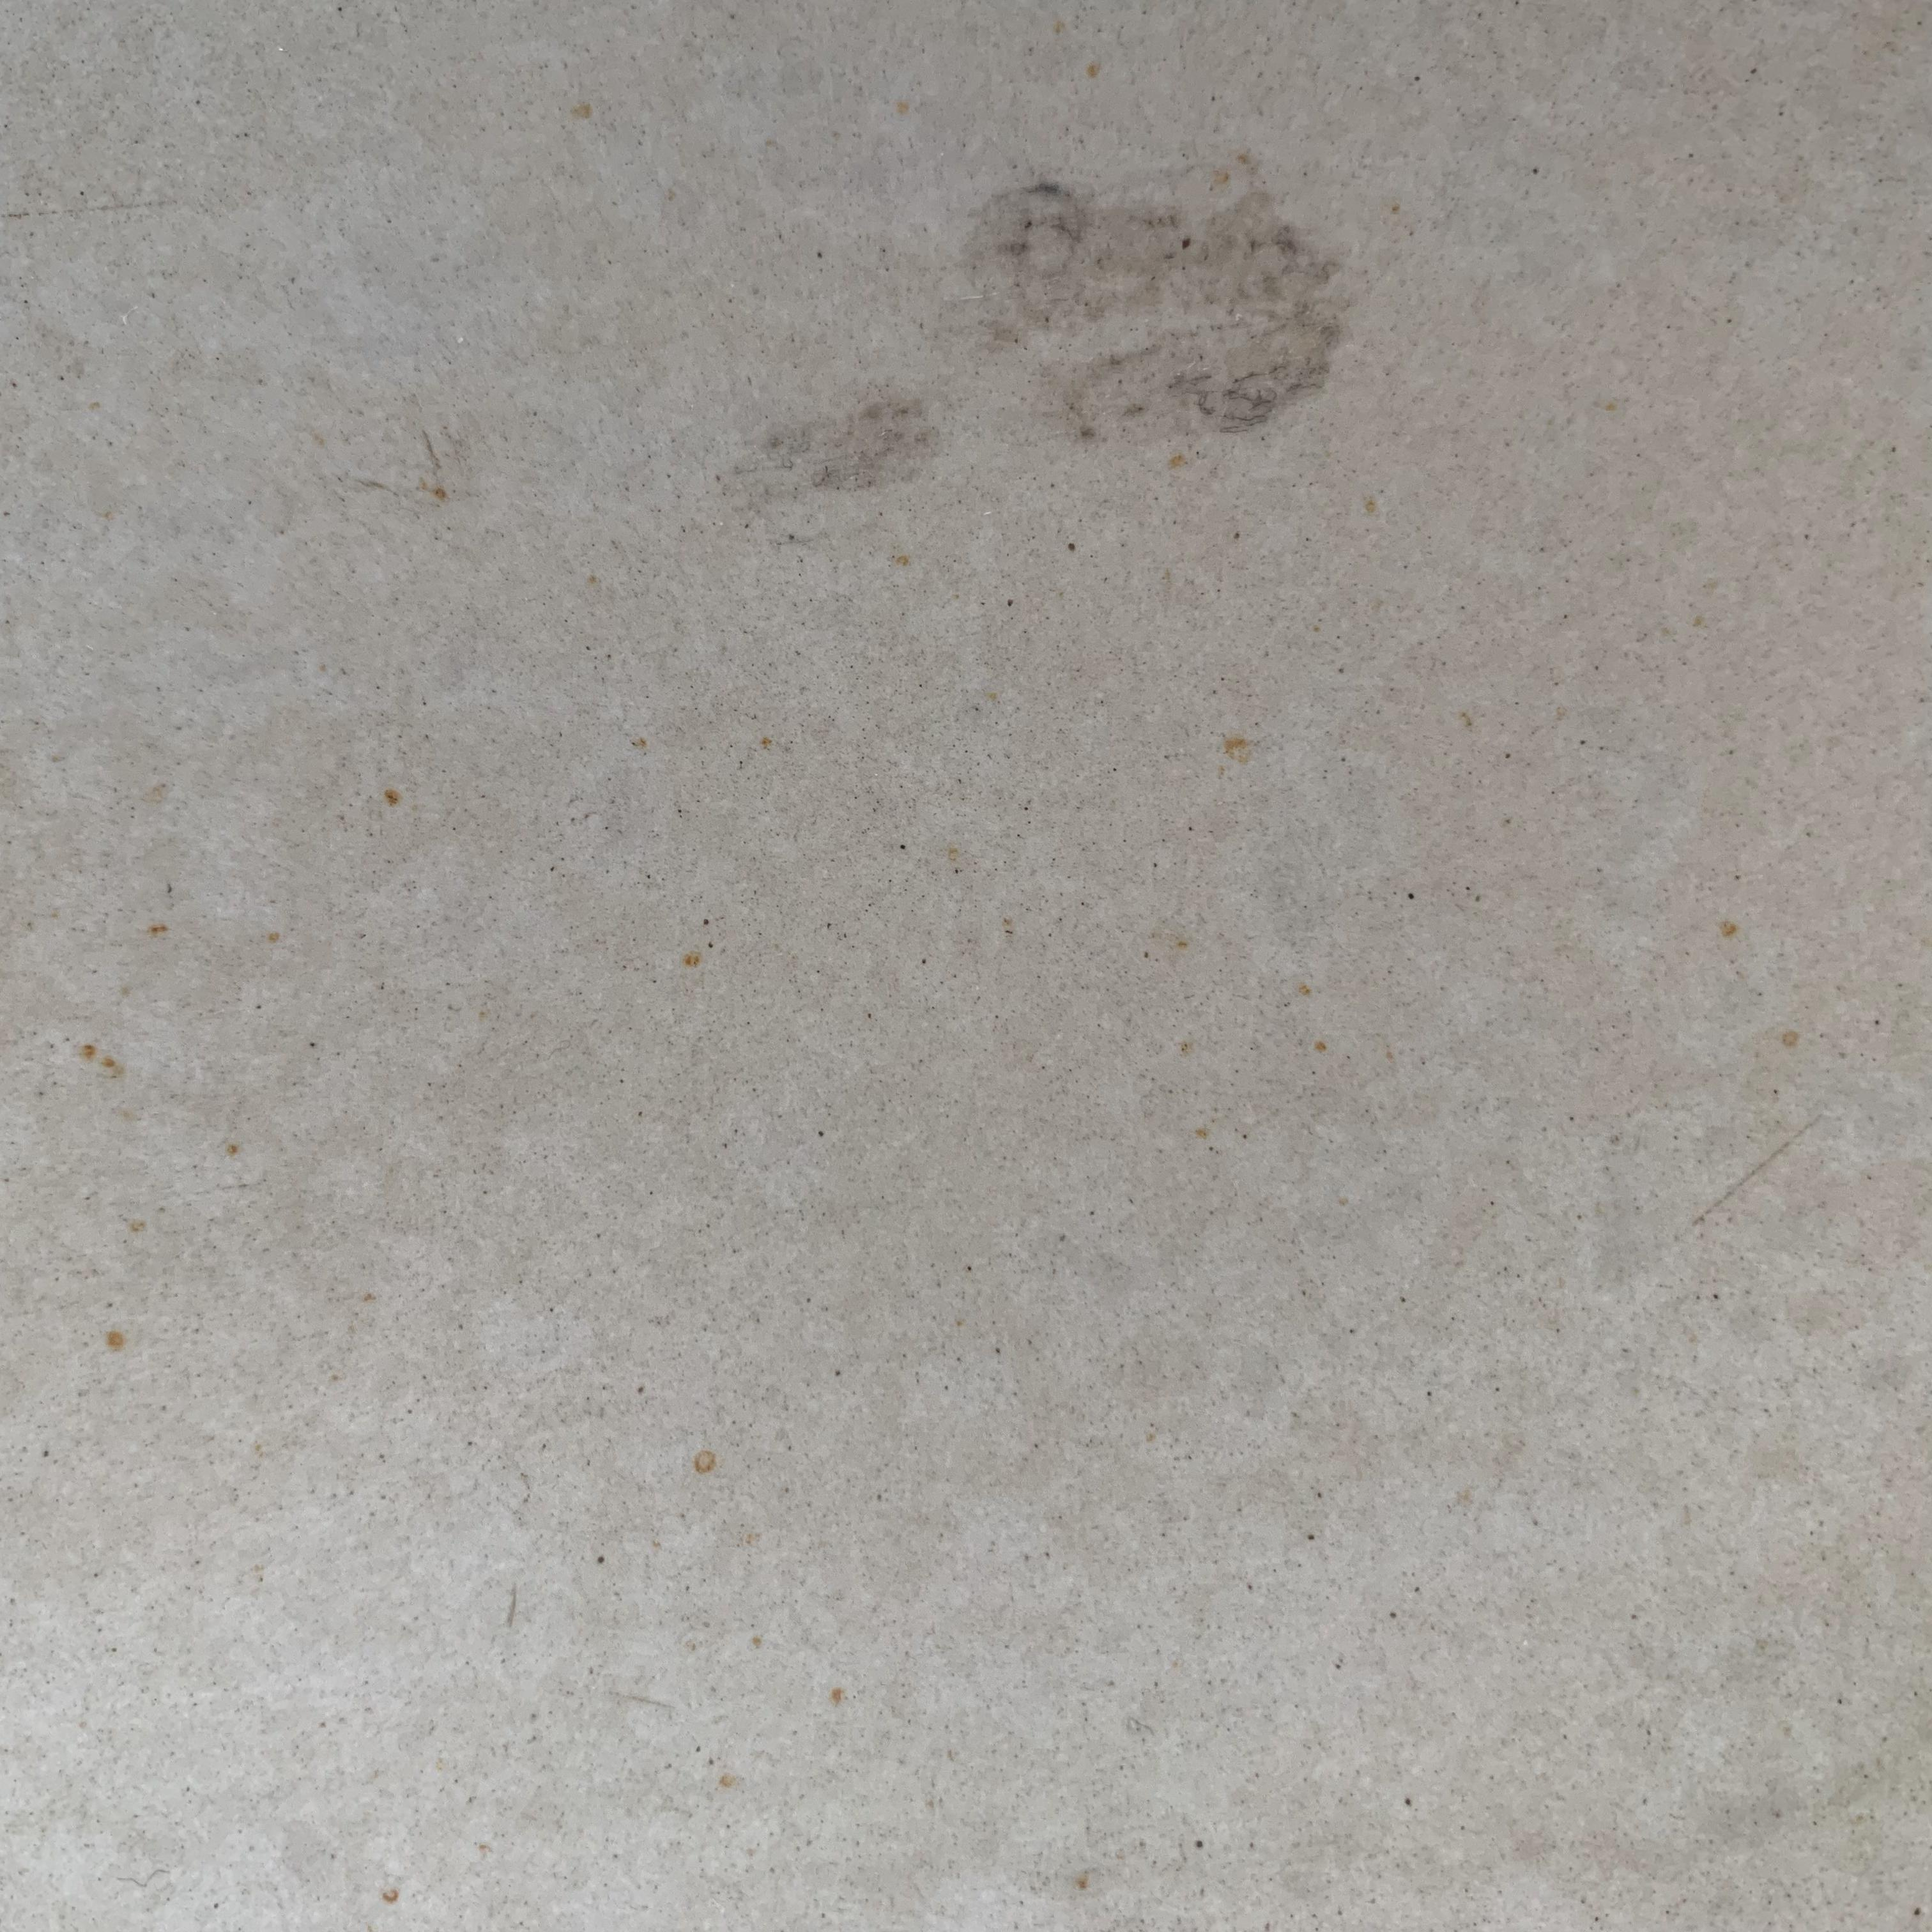grey spot: (945, 147, 1345, 448), (713, 402, 945, 502)
